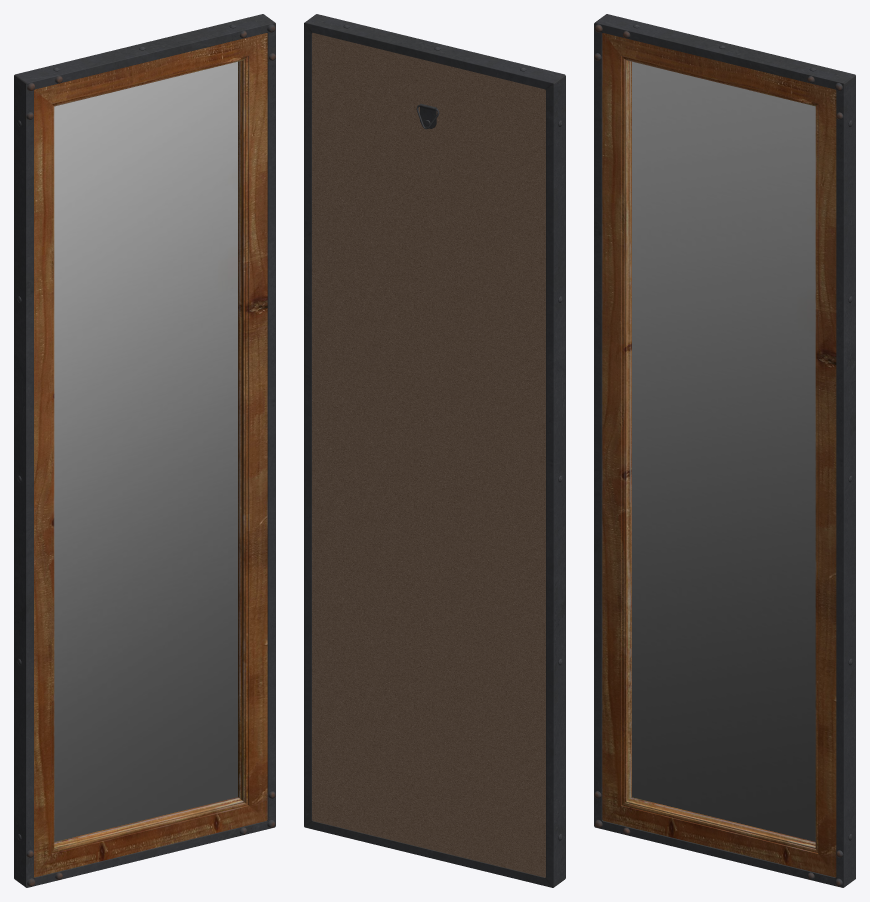
File: mirror_B073WGN8PP.glb
3 views of the same model, side by side, from view 1: azimuth 30°, elevation 25°; view 2: azimuth 150°, elevation 25°; view 3: azimuth 330°, elevation 25° (orthographic).
Parts seen in each view (by area): view 1: RootNode; view 2: RootNode; view 3: RootNode.
Part boxes in pixels (x1,y1,x2,y2): RootNode: (14, 14, 275, 887); RootNode: (304, 14, 565, 887); RootNode: (594, 14, 855, 887).
Size of the model in its own units: 0.3543 by 1.08 by 0.0424.
Materials: 1 (1 with a texture image).
